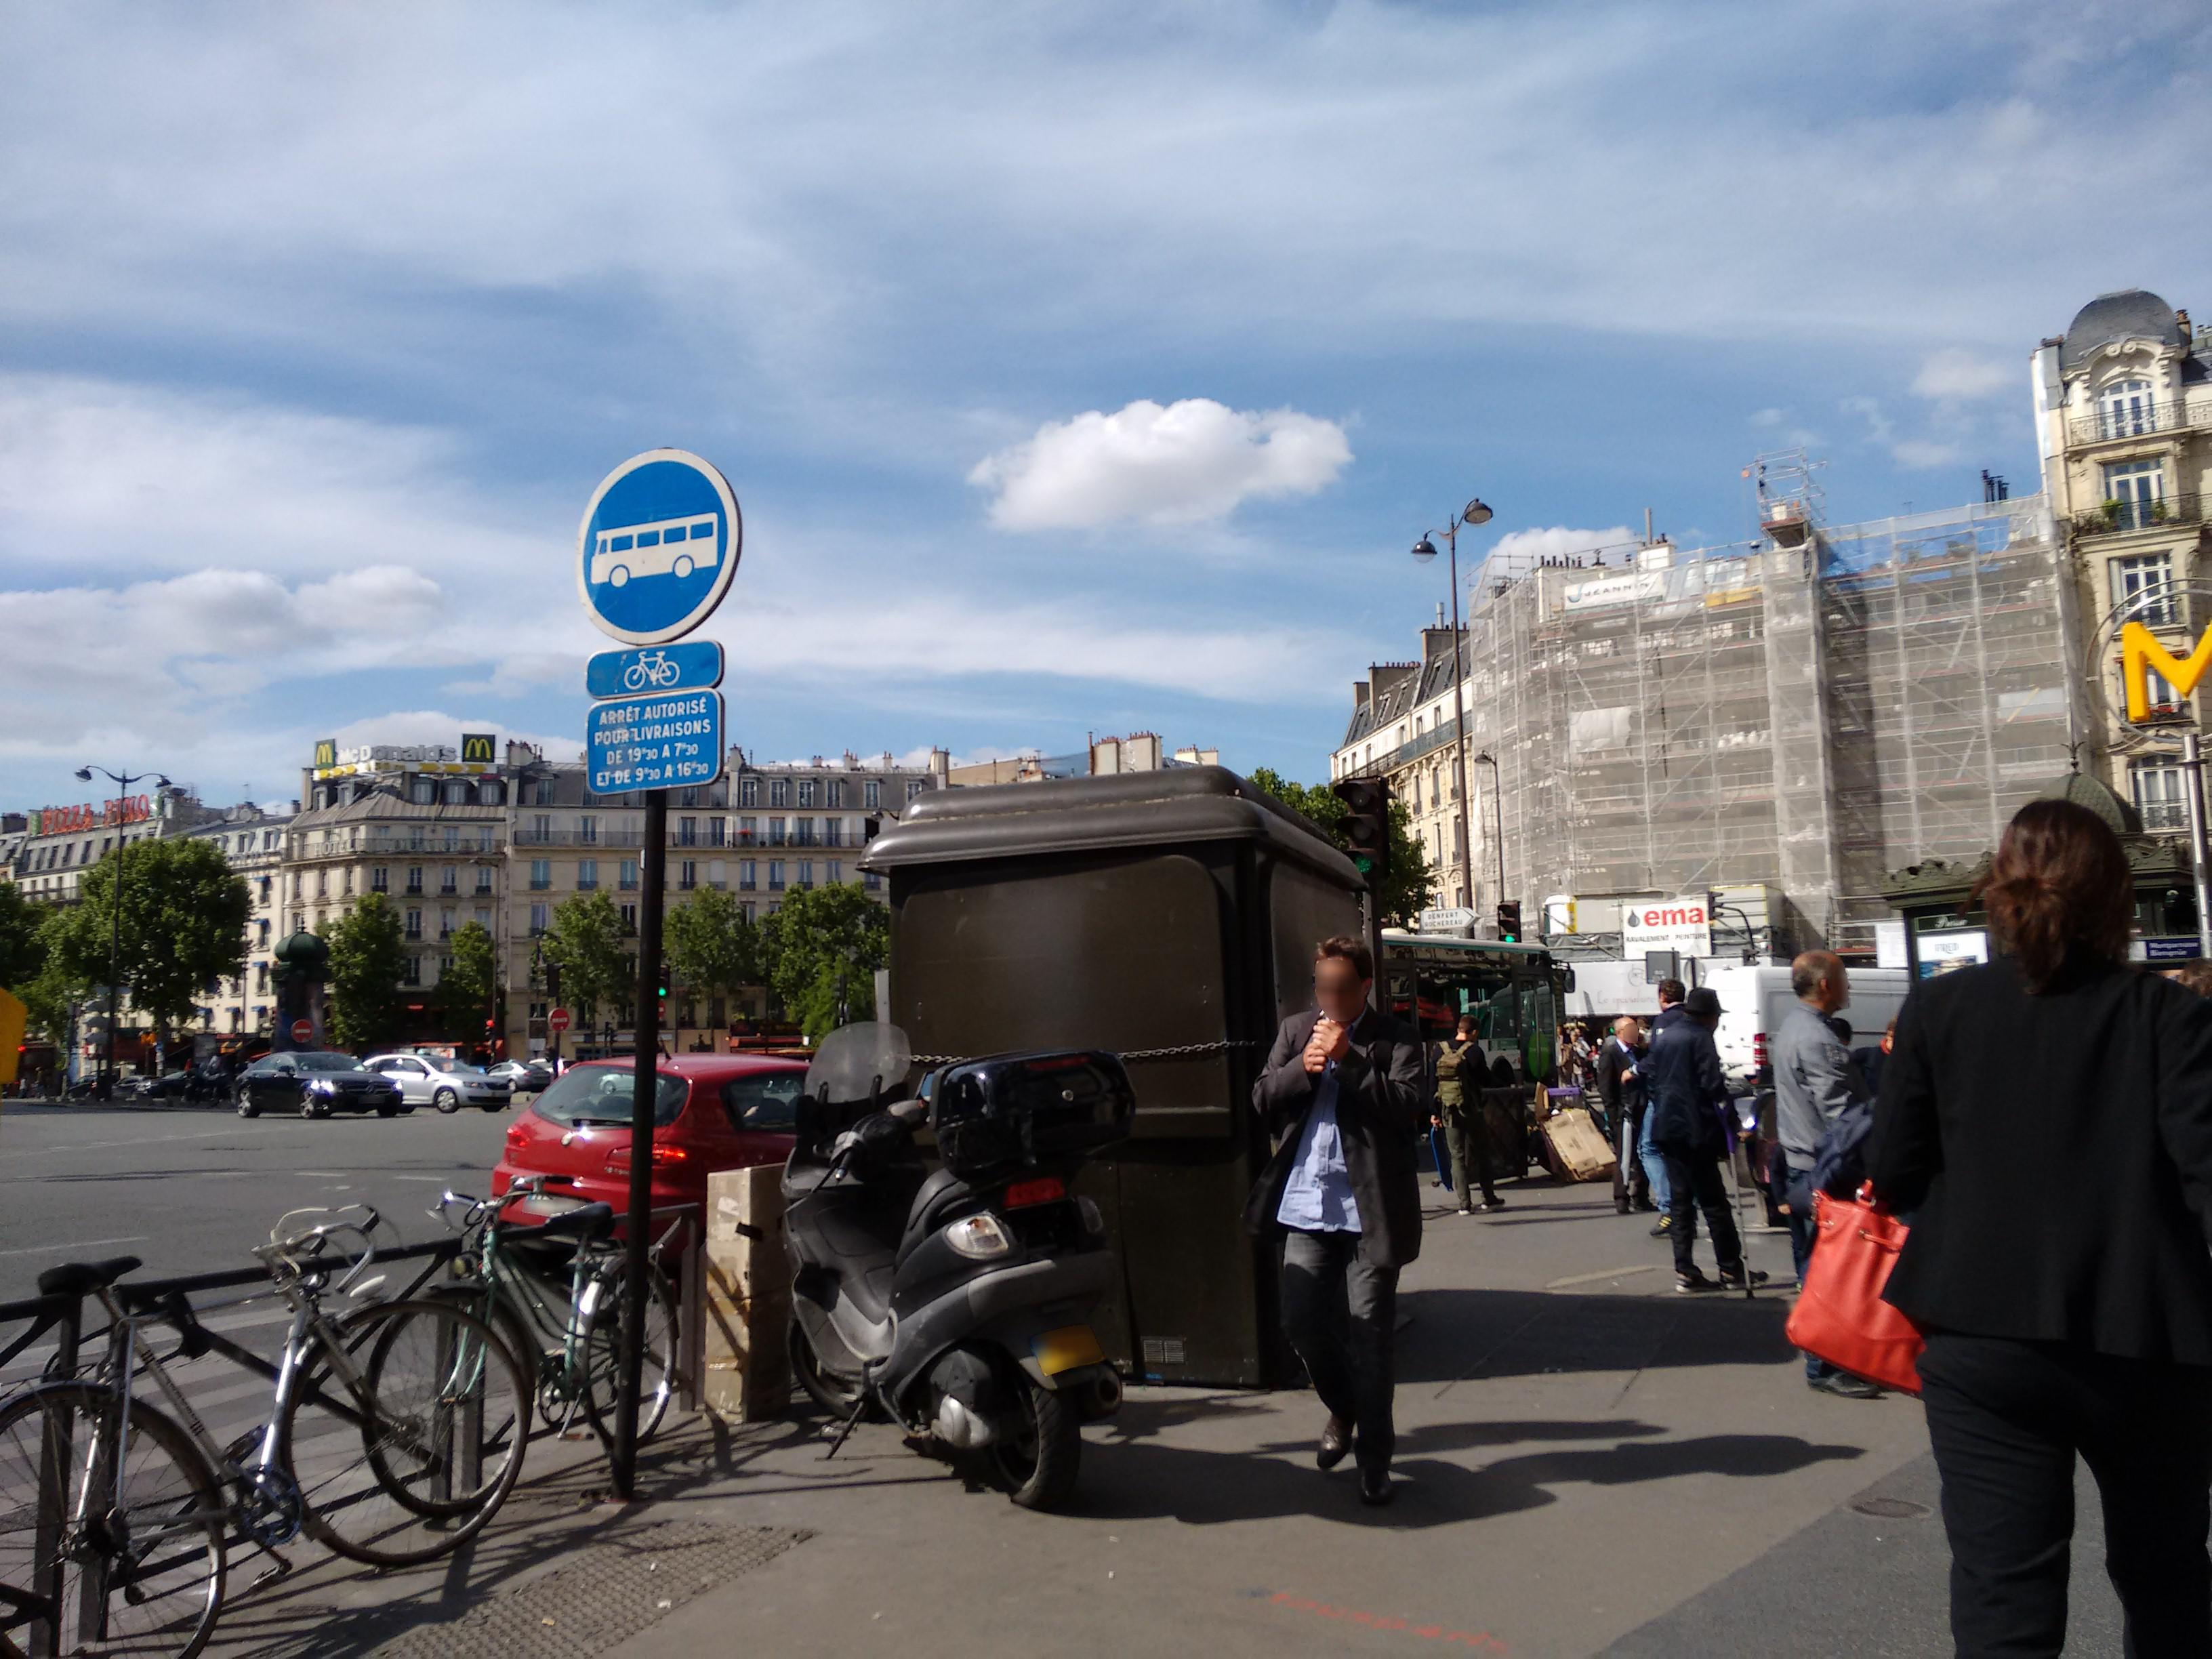vinyl banner: (1602, 896, 1721, 983), (1554, 568, 1672, 626)
